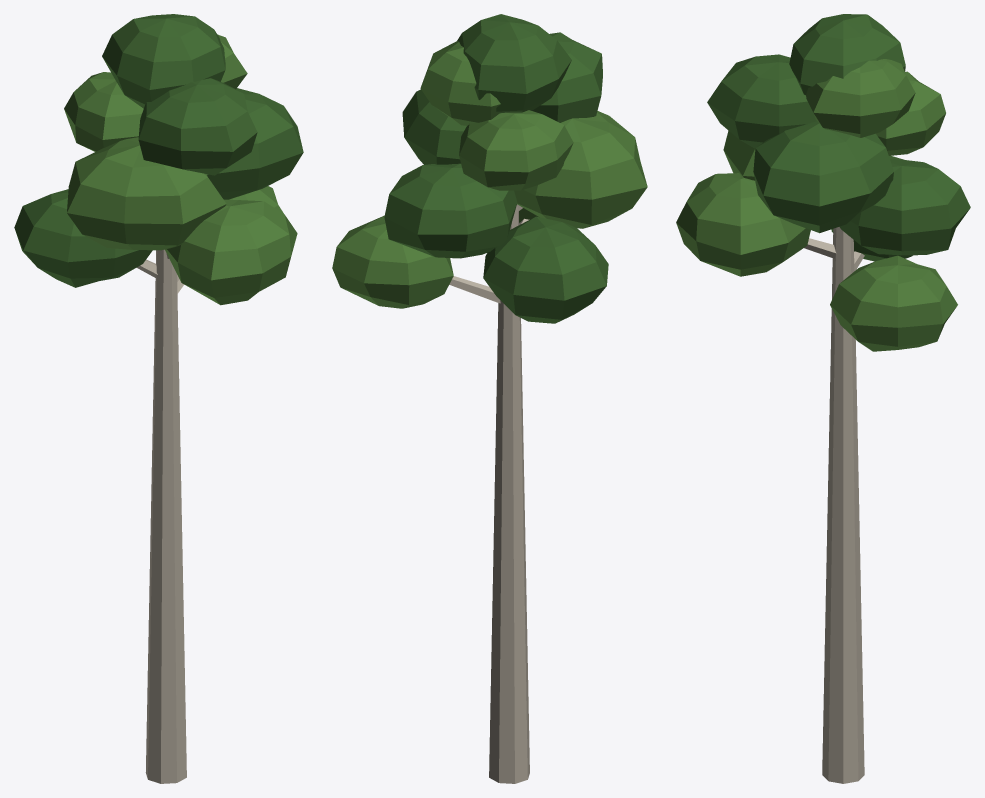
The model's file is tree_toog_medium.glb.
The picture shows the model from 3 angles, left to right: view 1: azimuth 30°, elevation 25°; view 2: azimuth 150°, elevation 25°; view 3: azimuth 270°, elevation 25°; orthographic projection.
Parts seen in each view (by area): view 1: tree_toog_medium; view 2: tree_toog_medium; view 3: tree_toog_medium.
Part boxes in pixels (<box>): tree_toog_medium: <box>14,14,303,783</box>; tree_toog_medium: <box>332,14,647,783</box>; tree_toog_medium: <box>676,14,970,783</box>.
Bounding box in the file's own units: 3.37 × 9.5 × 3.36.
